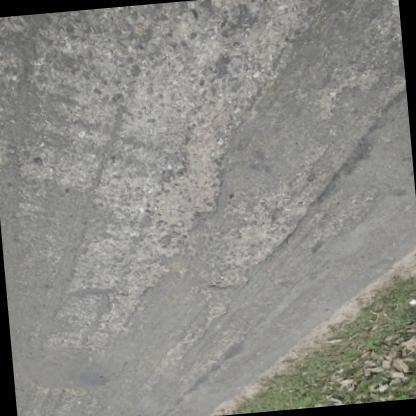pothole: (150, 123, 232, 223), (230, 192, 326, 263)
